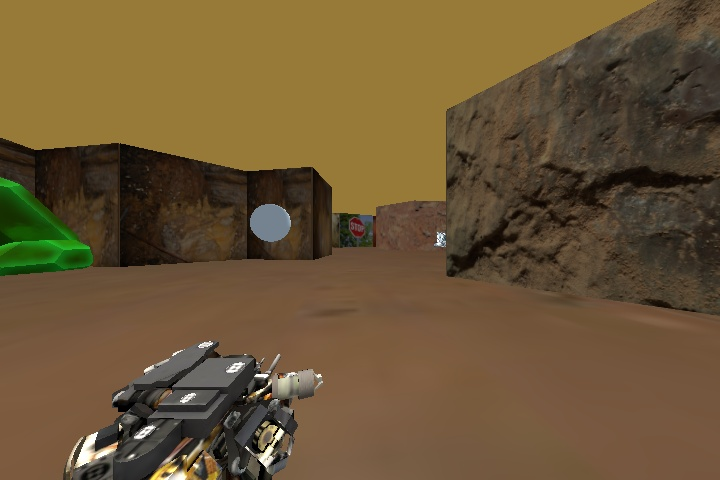gem: (0, 174, 96, 276)
minerals: (434, 231, 448, 248)
sign: (348, 216, 366, 238)
sphere: (249, 203, 294, 242)
